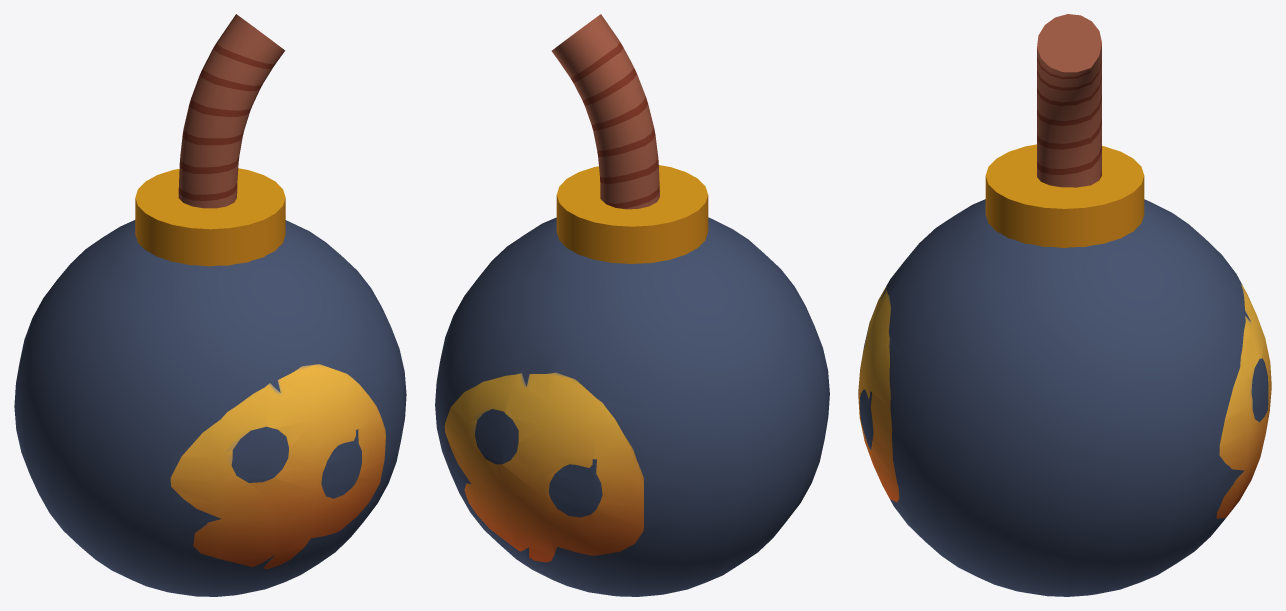
File: Bomb.fbx
3 views of the same model, side by side, from view 1: azimuth 30°, elevation 25°; view 2: azimuth 150°, elevation 25°; view 3: azimuth 270°, elevation 25° (orthographic). The views are drawn at different scales.
Visible parts, largest first — view 1: Bomb; view 2: Bomb; view 3: Bomb.
Boxes of the visible parts, x1,y1,x2,y2 form: Bomb: (14,14,406,596); Bomb: (435,14,829,596); Bomb: (858,14,1271,596).
Bounding box in the file's own units: 29.94 × 46.4 × 29.93.
